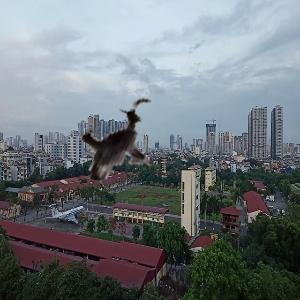drone: (58, 90, 187, 219)
